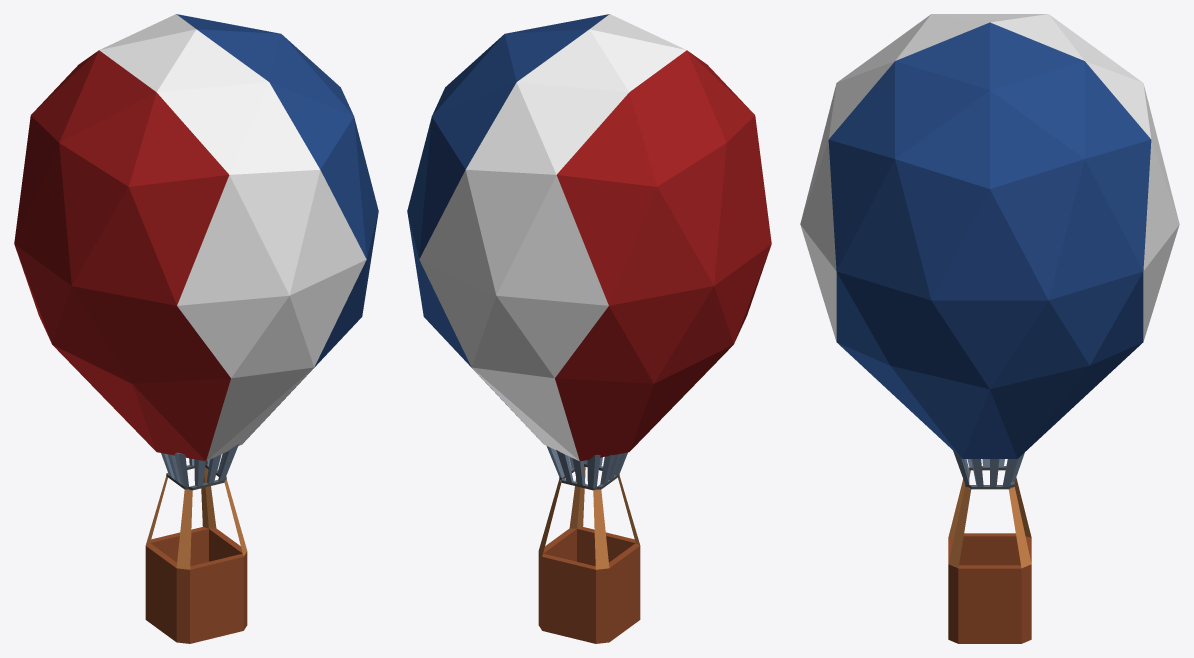
File: montgolfiere.fbx
3 renders of one model, left to right at view 1: azimuth 30°, elevation 25°; view 2: azimuth 150°, elevation 25°; view 3: azimuth 270°, elevation 25°, orthographic.
Parts seen in each view (by area): view 1: Cube.018; view 2: Cube.018; view 3: Cube.018.
Boxes of the visible parts, box(x1,y1,x2,y2) form: Cube.018: box(14, 14, 378, 643); Cube.018: box(407, 14, 771, 643); Cube.018: box(800, 14, 1179, 643).
Bounding box in the file's own units: 867 × 1601 × 911.
Materials: 1 (1 with a texture image).
